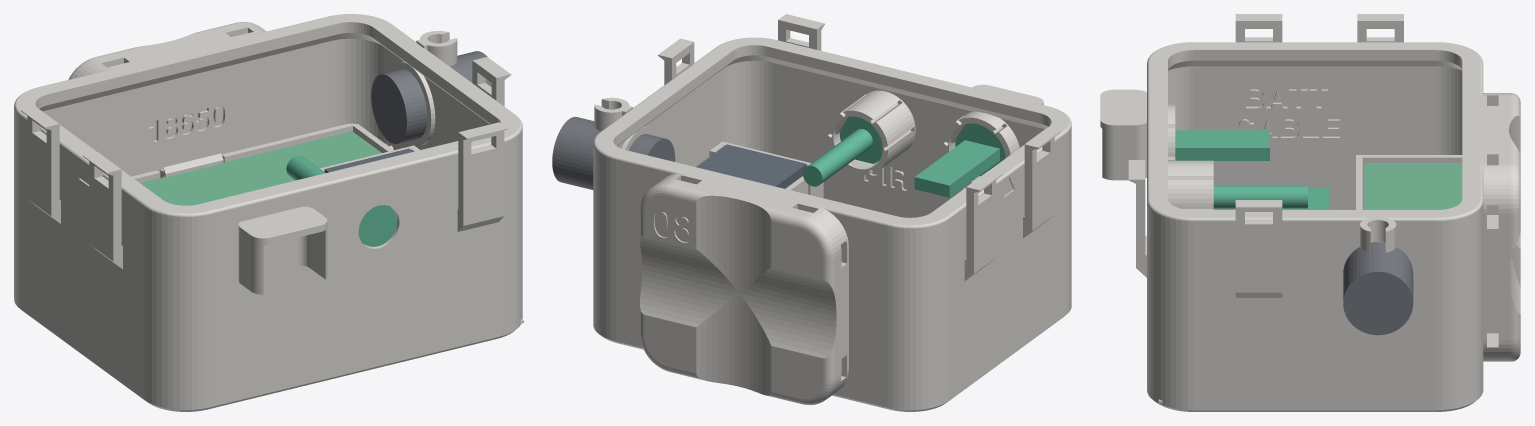
The model's file is o11_outdoor_inside.glb.
3 views of the same model, side by side, from view 1: azimuth 30°, elevation 25°; view 2: azimuth 150°, elevation 25°; view 3: azimuth 270°, elevation 25° (orthographic). The views are drawn at different scales.
Parts seen in each view (by area): view 1: 08_outdoor_case, 18650_+_holder, PG7_gland, PIR_AM312; view 2: 08_outdoor_case, INMP441_(outdoor), PG7_gland, ESP32-C3_SuperMini, PIR_AM312; view 3: 08_outdoor_case, PG7_gland, 18650_+_holder, INMP441_(outdoor), PIR_AM312, CN3791_charger.
Part boxes in pixels (bbox=[...]): 08_outdoor_case: bbox=[14, 14, 523, 411]; 18650_+_holder: bbox=[140, 131, 381, 205]; PG7_gland: bbox=[371, 51, 491, 143]; PIR_AM312: bbox=[286, 155, 397, 246]; 08_outdoor_case: bbox=[593, 14, 1071, 411]; INMP441_(outdoor): bbox=[914, 123, 1005, 197]; PG7_gland: bbox=[552, 116, 675, 189]; ESP32-C3_SuperMini: bbox=[696, 144, 806, 188]; PIR_AM312: bbox=[803, 116, 882, 186]; 08_outdoor_case: bbox=[1100, 14, 1520, 411]; PG7_gland: bbox=[1343, 242, 1413, 335]; 18650_+_holder: bbox=[1364, 163, 1462, 209]; INMP441_(outdoor): bbox=[1175, 130, 1269, 160]; PIR_AM312: bbox=[1213, 185, 1307, 208]; CN3791_charger: bbox=[1282, 188, 1329, 209].
Size of the model in its own units: 0.109 by 0.0506 by 0.09.
